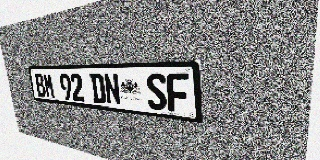2: (69, 73, 85, 102)
9: (59, 73, 73, 100)
B: (34, 73, 46, 97)
D: (89, 73, 106, 104)
F: (166, 73, 190, 113)
M: (42, 73, 55, 98)
N: (103, 73, 121, 106)
S: (146, 73, 167, 111)
